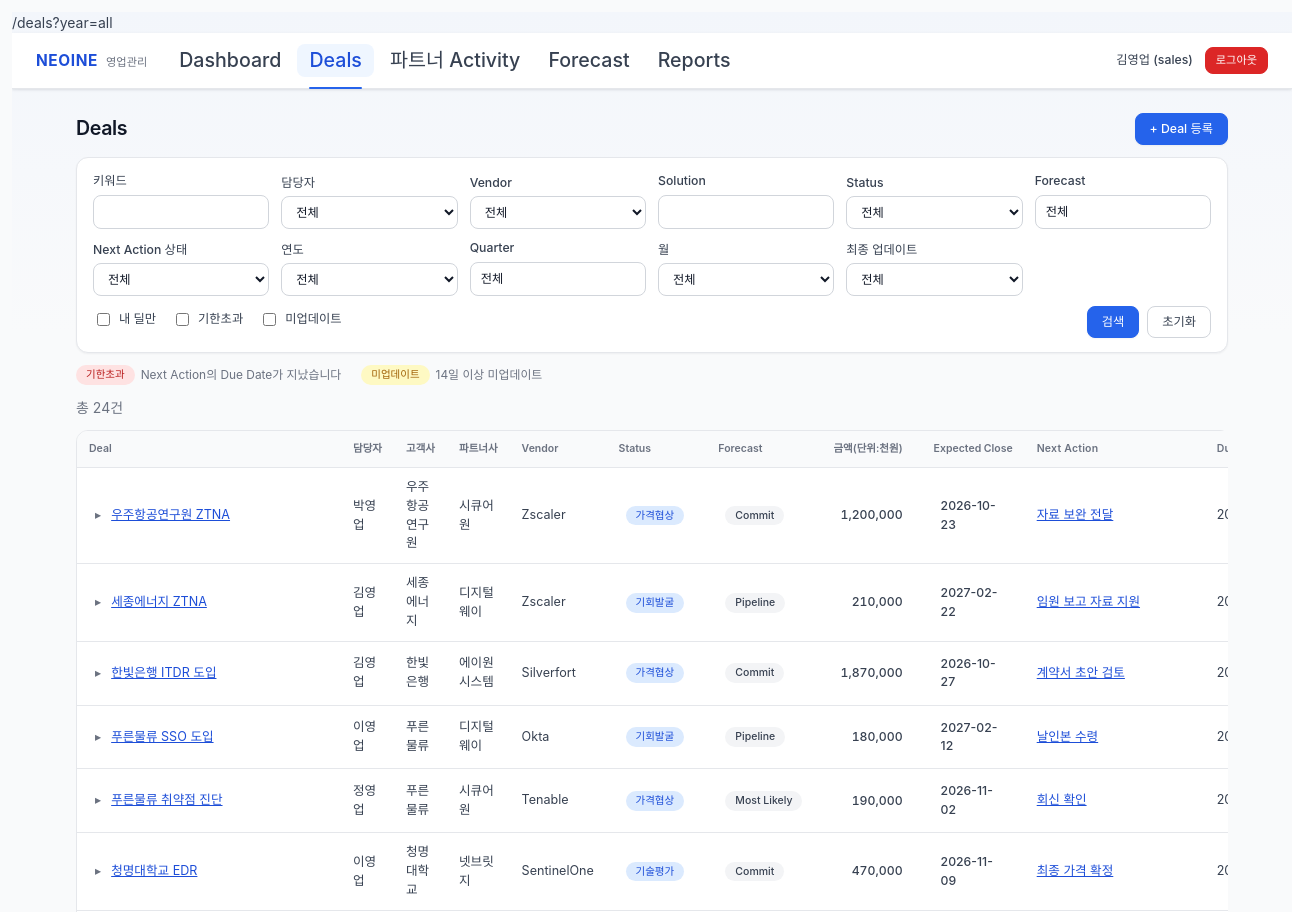
Test case: Quarter 단독 선택 (AC-18) › enables the quarter checkboxes without a year and offers Q1 to Q4 and the all button
The width and height of the screenshot is (1292, 912).
Expected: the row "한빛은행 ITDR 도입" is shown, left=77, top=642, right=1228, bottom=706
Expected: the form named "Deal 필터" is shown, left=76, top=157, right=1228, bottom=353
Click the button named "Quarter ".
click(558, 279)  # box left=470, top=262, right=646, bottom=296
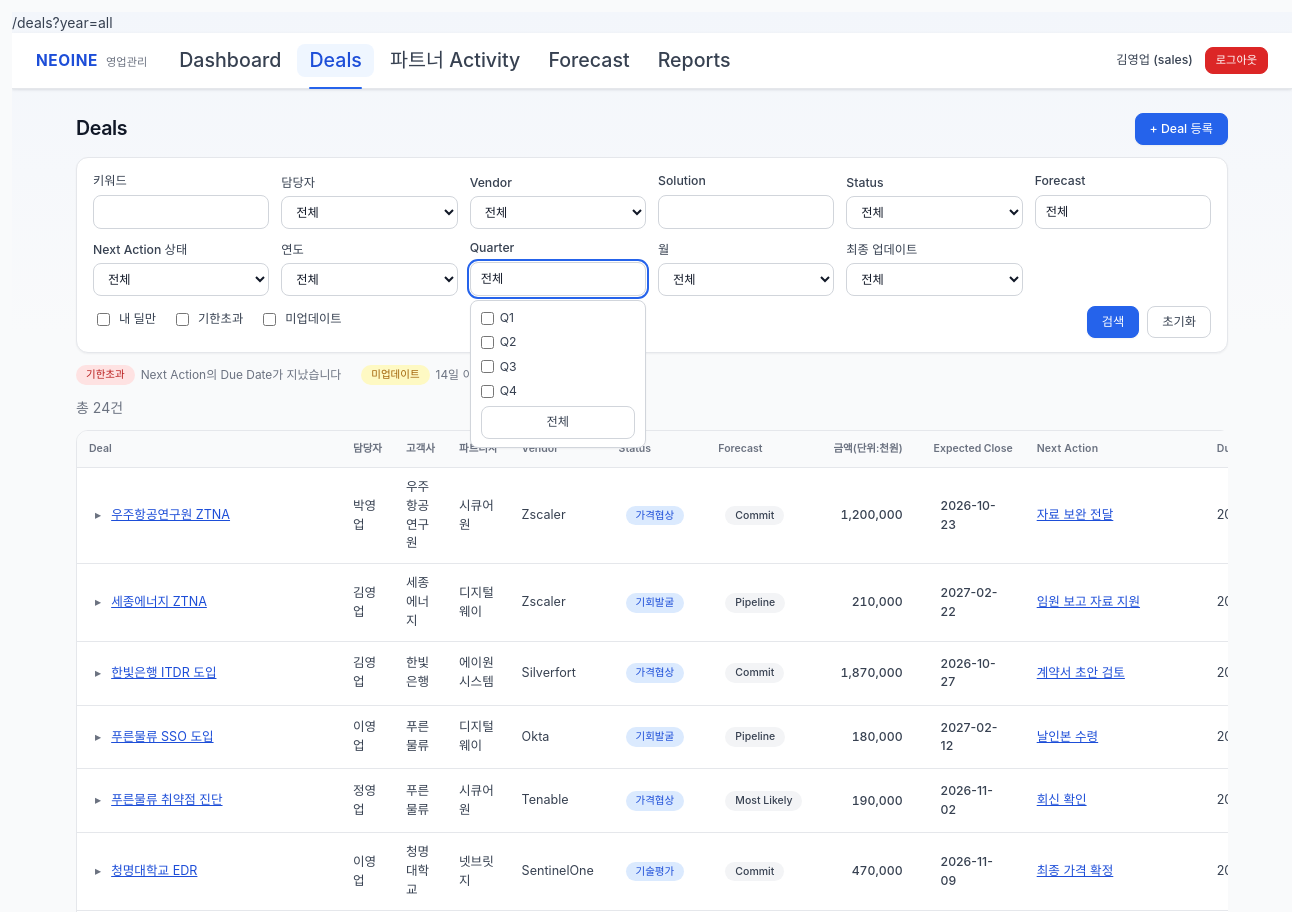
Expected: the button "전체" below "Q4" is shown, left=481, top=406, right=635, bottom=439
